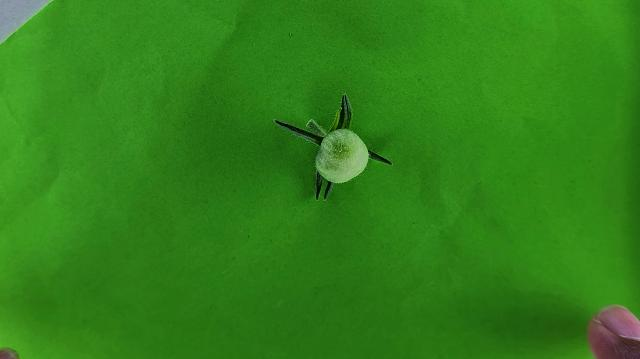Fruit Maturation: (313, 128, 369, 184)
